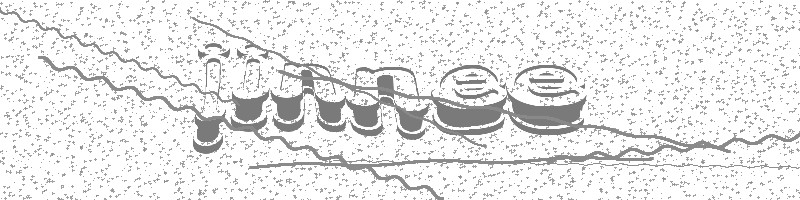e: (504, 61, 589, 135), (431, 61, 507, 137)
i: (192, 38, 232, 153), (232, 38, 272, 132)
n: (347, 62, 431, 142), (271, 60, 349, 135)
